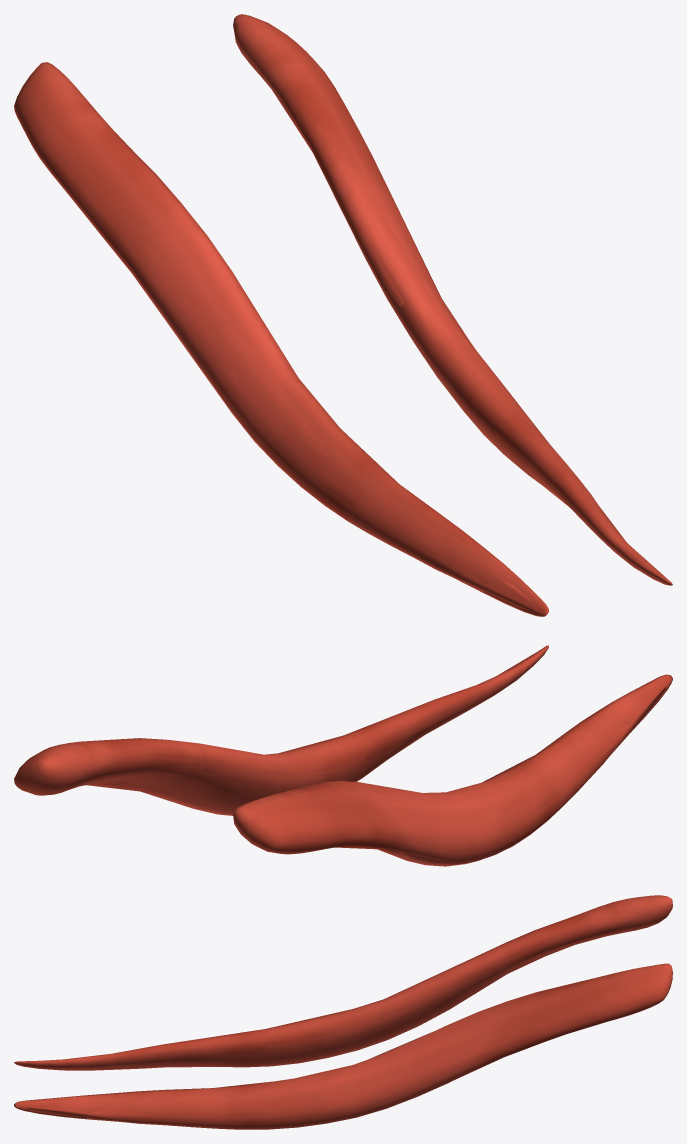
Rendered from Longissimus Capitis.fbx.
3 views of the same model, one above another, from view 1: azimuth 30°, elevation 25°; view 2: azimuth 150°, elevation 25°; view 3: azimuth 270°, elevation 25° (orthographic). The views are drawn at different scales.
Parts seen in each view (by area): view 1: Longissimus Capitis, Longissimus Capitis low; view 2: Longissimus Capitis, Longissimus Capitis low; view 3: Longissimus Capitis, Longissimus Capitis low.
Boxes of the visible parts, x1,y1,x2,y2 form: Longissimus Capitis: (14, 14, 672, 616); Longissimus Capitis low: (14, 16, 669, 613); Longissimus Capitis: (14, 645, 672, 866); Longissimus Capitis low: (14, 649, 671, 863); Longissimus Capitis: (14, 895, 672, 1129); Longissimus Capitis low: (15, 895, 669, 1124).
Bounding box in the file's own units: 9.16 × 7.22 × 25.79.
